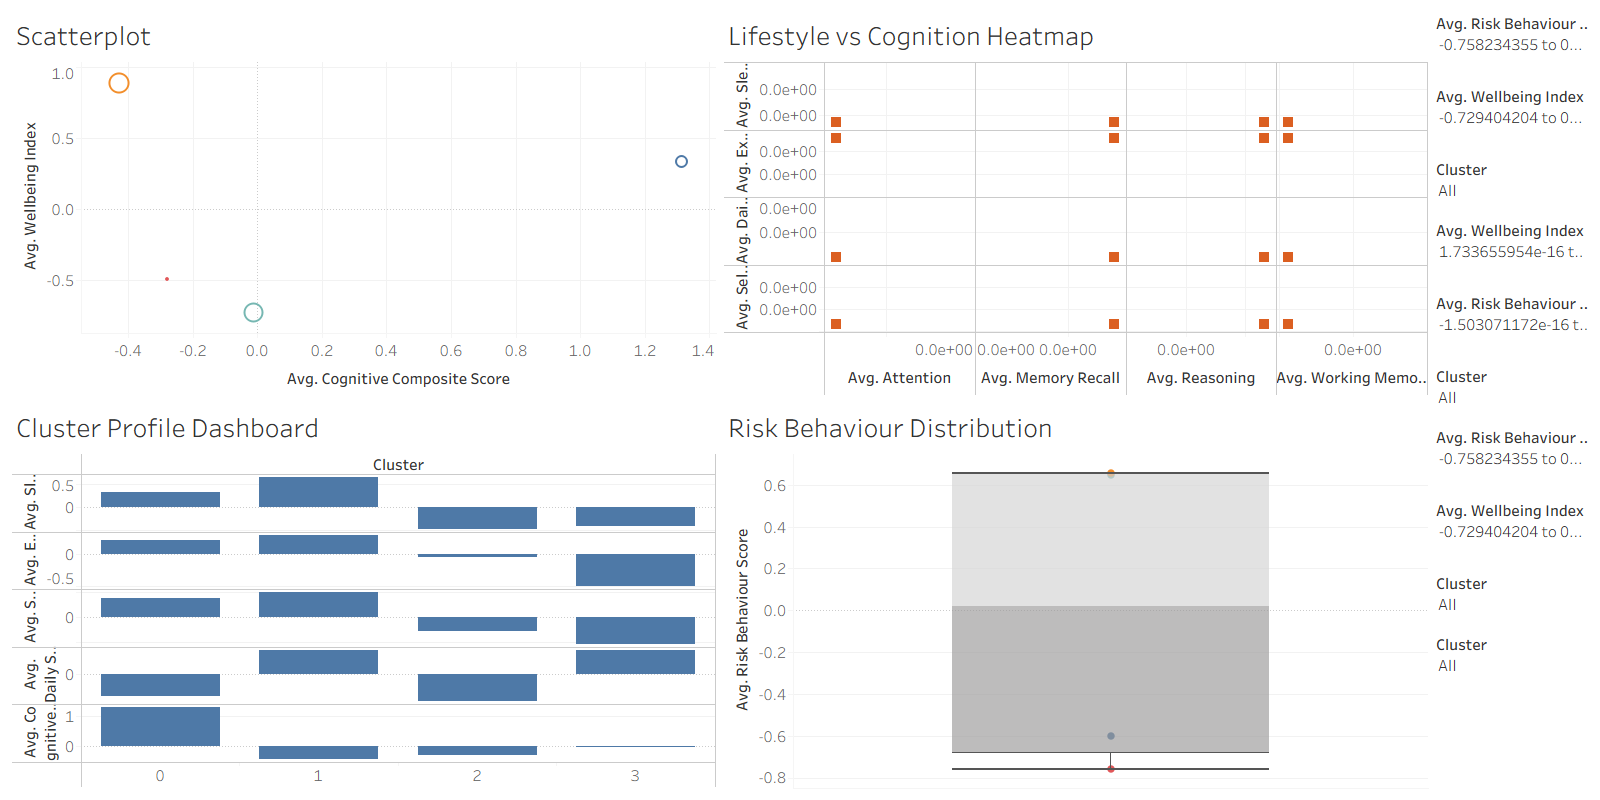

The dashboard page shown, as its layout file describes it:
{"tool":"tableau","page":{"name":"Cognitive & Lifestyle Cluster Visualisation Dashboard","canvas":[1600,800],"ordinal":0},"visuals":[{"type":"worksheet","title":"Scatterplot","mark":"Automatic","rows":["wellbeing_index"],"cols":["cognitive_composite_score"],"box":[8,8,712,392]},{"type":"worksheet","title":"Lifestyle vs Cognition Heatmap","mark":"Square","rows":["Sleep_Hours_Per_Night","Exercise_Frequency_Num 1","Daily_Screen_Time_Hours","Self_Reported_Stress_Level"],"cols":["Attention","MemoryRecall","Reasoning","WorkingMemory"],"box":[720,8,712,392]},{"type":"filter","title":"Scatterplot","param":"[federated.116z41f04q3d161bxi9k61m7l8uq].[avg:risk_behaviour_score:qk]","box":[1432,8,160,73]},{"type":"filter","title":"Scatterplot","param":"[federated.116z41f04q3d161bxi9k61m7l8uq].[avg:wellbeing_index:qk]","box":[1432,81,160,73]},{"type":"filter","title":"Scatterplot","param":"[federated.116z41f04q3d161bxi9k61m7l8uq].[none:cluster:ok]","box":[1432,154,160,61]},{"type":"filter","title":"Lifestyle vs Cognition Heatmap","param":"[federated.116z41f04q3d161bxi9k61m7l8uq].[avg:wellbeing_index:qk]","box":[1432,215,160,73]},{"type":"filter","title":"Lifestyle vs Cognition Heatmap","param":"[federated.116z41f04q3d161bxi9k61m7l8uq].[avg:risk_behaviour_score:qk]","box":[1432,288,160,73]},{"type":"filter","title":"Lifestyle vs Cognition Heatmap","param":"[federated.116z41f04q3d161bxi9k61m7l8uq].[none:cluster:ok]","box":[1432,361,160,61]},{"type":"worksheet","title":"Cluster Profile Dashboard","mark":"Bar","rows":["Sleep_Hours_Per_Night","Exercise_Frequency_Num 1","Self_Reported_Stress_Level","Daily_Screen_Time_Hours","cognitive_composite_score"],"cols":["cluster"],"box":[8,400,712,392]},{"type":"worksheet","title":"Risk Behaviour Distribution","mark":"Circle","rows":["risk_behaviour_score"],"box":[720,400,712,392]},{"type":"filter","title":"Cluster Profile Dashboard","param":"[federated.116z41f04q3d161bxi9k61m7l8uq].[avg:risk_behaviour_score:qk]","box":[1432,422,160,73]},{"type":"filter","title":"Cluster Profile Dashboard","param":"[federated.116z41f04q3d161bxi9k61m7l8uq].[avg:wellbeing_index:qk]","box":[1432,495,160,73]},{"type":"filter","title":"Cluster Profile Dashboard","param":"[federated.116z41f04q3d161bxi9k61m7l8uq].[none:cluster:ok]","box":[1432,568,160,61]},{"type":"filter","title":"Risk Behaviour Distribution","param":"[federated.116z41f04q3d161bxi9k61m7l8uq].[none:cluster:ok]","box":[1432,629,160,61]}]}

Visuals, with their boxes in screenshot pixels (x1, y1, x2, y2), scaled from the page's 1600x800 canvas onto the 1600x800 screenshot:
"Scatterplot" worksheet: <region>8, 8, 720, 400</region>
"Lifestyle vs Cognition Heatmap" worksheet (Square marks): <region>720, 8, 1432, 400</region>
"Scatterplot" filter: <region>1432, 8, 1592, 81</region>
"Scatterplot" filter: <region>1432, 81, 1592, 154</region>
"Scatterplot" filter: <region>1432, 154, 1592, 215</region>
"Lifestyle vs Cognition Heatmap" filter: <region>1432, 215, 1592, 288</region>
"Lifestyle vs Cognition Heatmap" filter: <region>1432, 288, 1592, 361</region>
"Lifestyle vs Cognition Heatmap" filter: <region>1432, 361, 1592, 422</region>
"Cluster Profile Dashboard" worksheet (Bar marks): <region>8, 400, 720, 792</region>
"Risk Behaviour Distribution" worksheet (Circle marks): <region>720, 400, 1432, 792</region>
"Cluster Profile Dashboard" filter: <region>1432, 422, 1592, 495</region>
"Cluster Profile Dashboard" filter: <region>1432, 495, 1592, 568</region>
"Cluster Profile Dashboard" filter: <region>1432, 568, 1592, 629</region>
"Risk Behaviour Distribution" filter: <region>1432, 629, 1592, 690</region>
